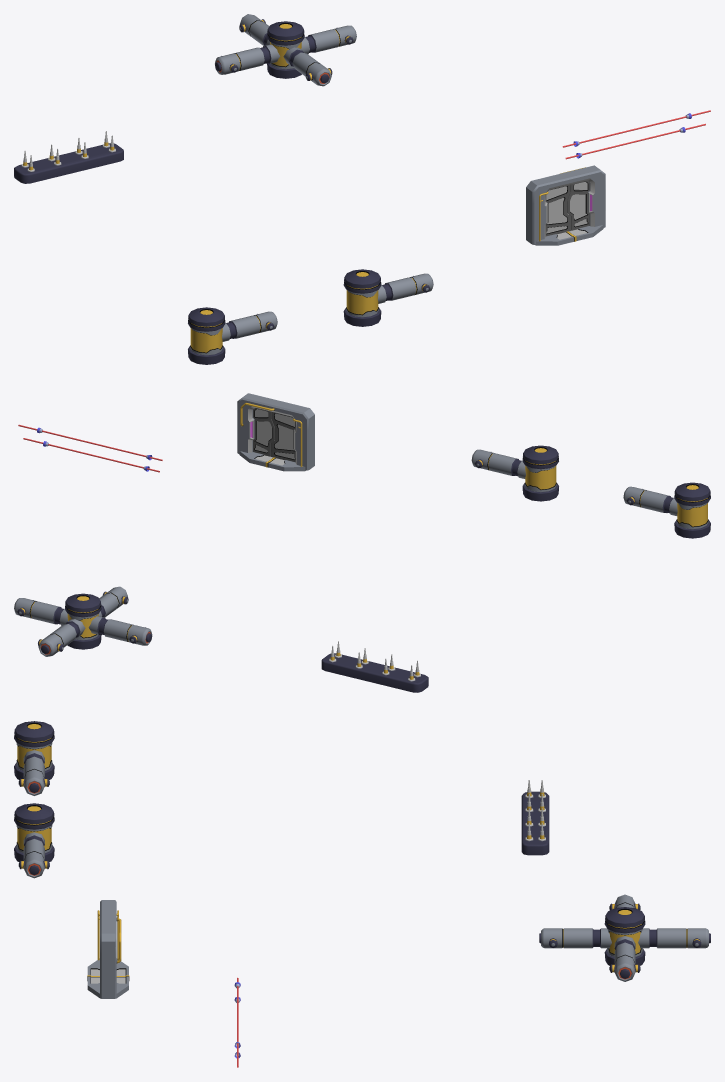
File: Level35_Objects.fbx
The picture shows the model from 3 angles, top to bottom: view 1: azimuth 30°, elevation 25°; view 2: azimuth 150°, elevation 25°; view 3: azimuth 270°, elevation 25°; orthographic projection. The views are drawn at different scales.
Visible parts, largest first — view 1: pCylinder14 (×6), pCylinder13 (×3), Base (×2), Right, Left, Base5; view 2: pCylinder14 (×6), pCylinder13 (×3), Base (×2), Right, Left, Base5; view 3: pCylinder14 (×5), pCylinder13 (×3), Base (×2), Base5.
Boxes of the visible parts, bbox=[...] form: pCylinder14 (×6): bbox=[215, 14, 433, 341]; pCylinder13 (×3): bbox=[188, 21, 381, 364]; Base (×2): bbox=[14, 143, 605, 244]; Right: bbox=[545, 184, 571, 236]; Left: bbox=[567, 180, 589, 230]; Base5: bbox=[535, 225, 603, 245]; pCylinder14 (×6): bbox=[14, 449, 677, 656]; pCylinder13 (×3): bbox=[65, 445, 710, 649]; Base (×2): bbox=[237, 393, 428, 692]; Right: bbox=[271, 411, 295, 462]; Left: bbox=[253, 408, 274, 456]; Base5: bbox=[239, 451, 305, 471]; pCylinder14 (×5): bbox=[23, 750, 710, 981]; pCylinder13 (×3): bbox=[14, 721, 645, 965]; Base (×2): bbox=[100, 791, 549, 998]; Base5: bbox=[87, 958, 129, 998].
Bounding box in the file's own units: 456 × 45.45 × 415.
